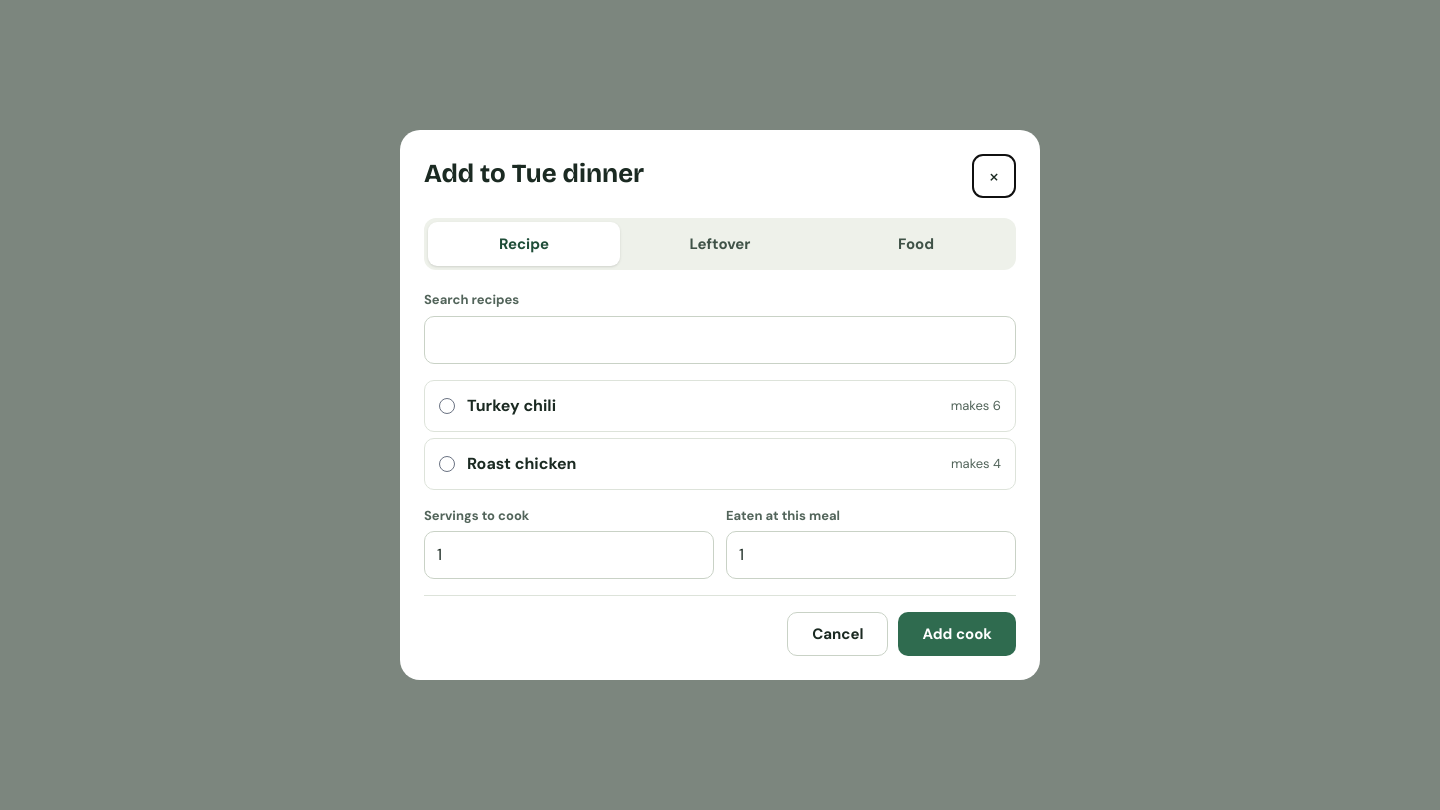
Test case: AddDialog › offers to create a food when the search finds none
The image size is (1440, 810).
Step 1. Click the tab "Food" → (916, 244), box [820,222,1012,266]
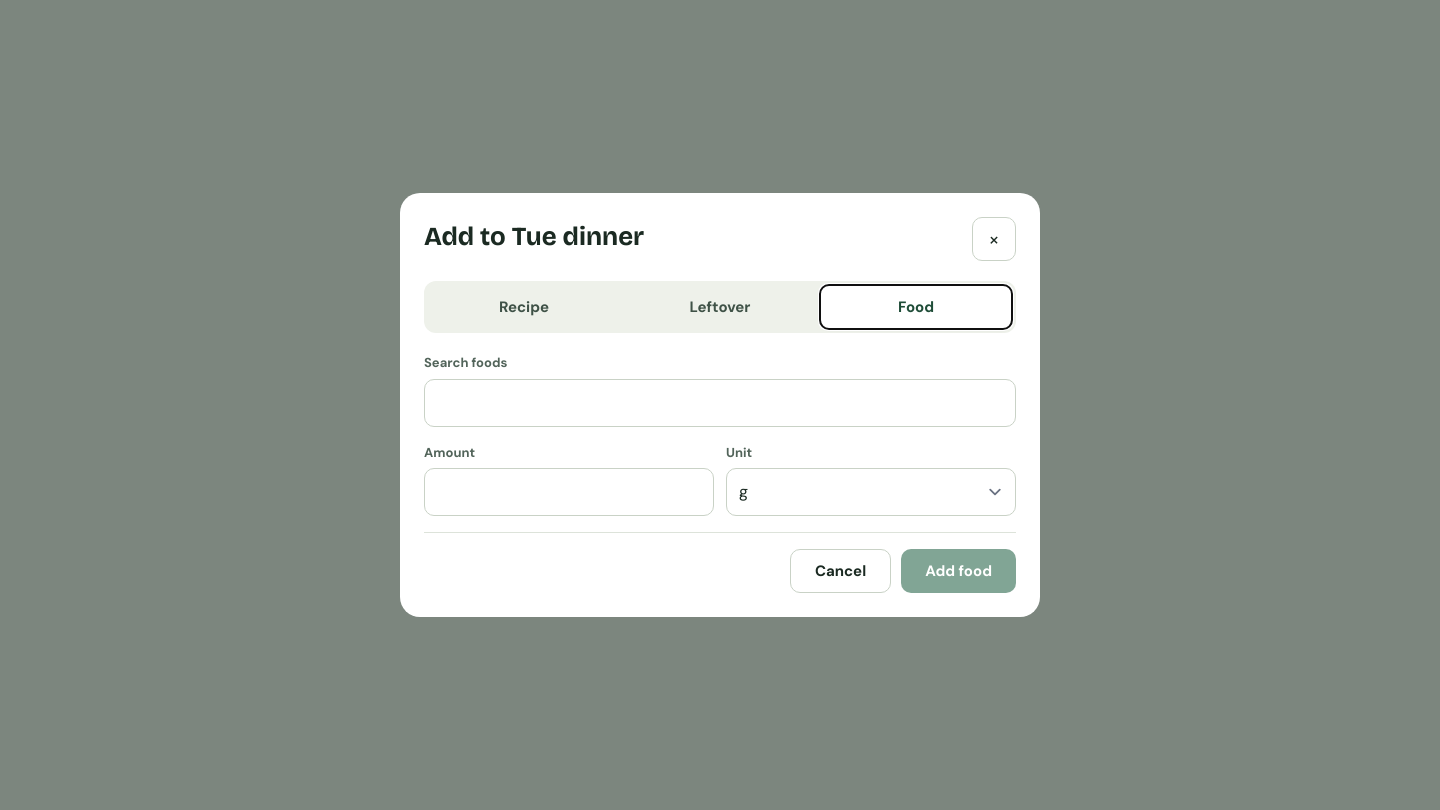
Step 2. Type "greek yogurt" into the search field labelled "Search foods" → (720, 402), box [424,378,1016,426]
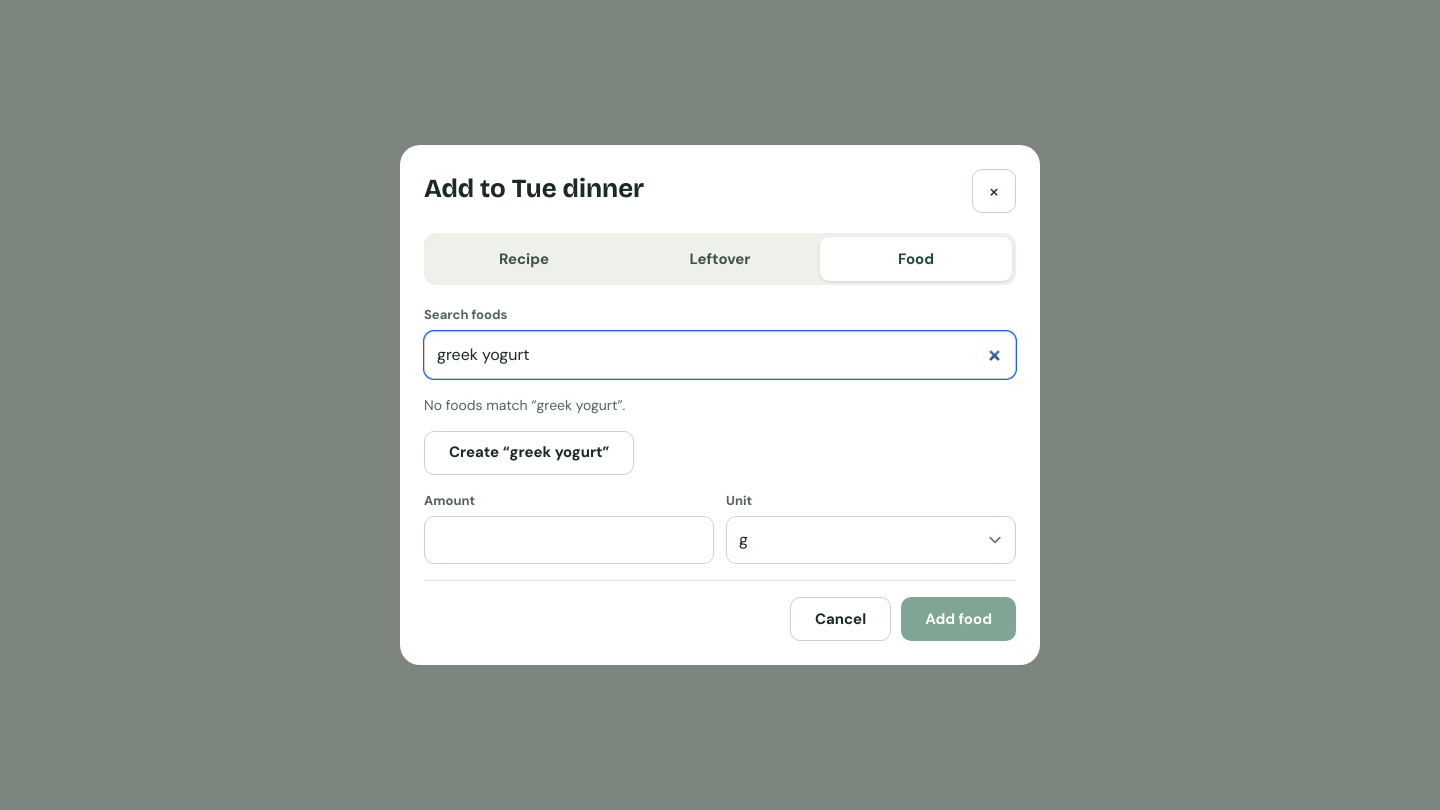
Step 3. Click the button "Create “greek yogurt”" → (529, 452), box [424,430,634,474]
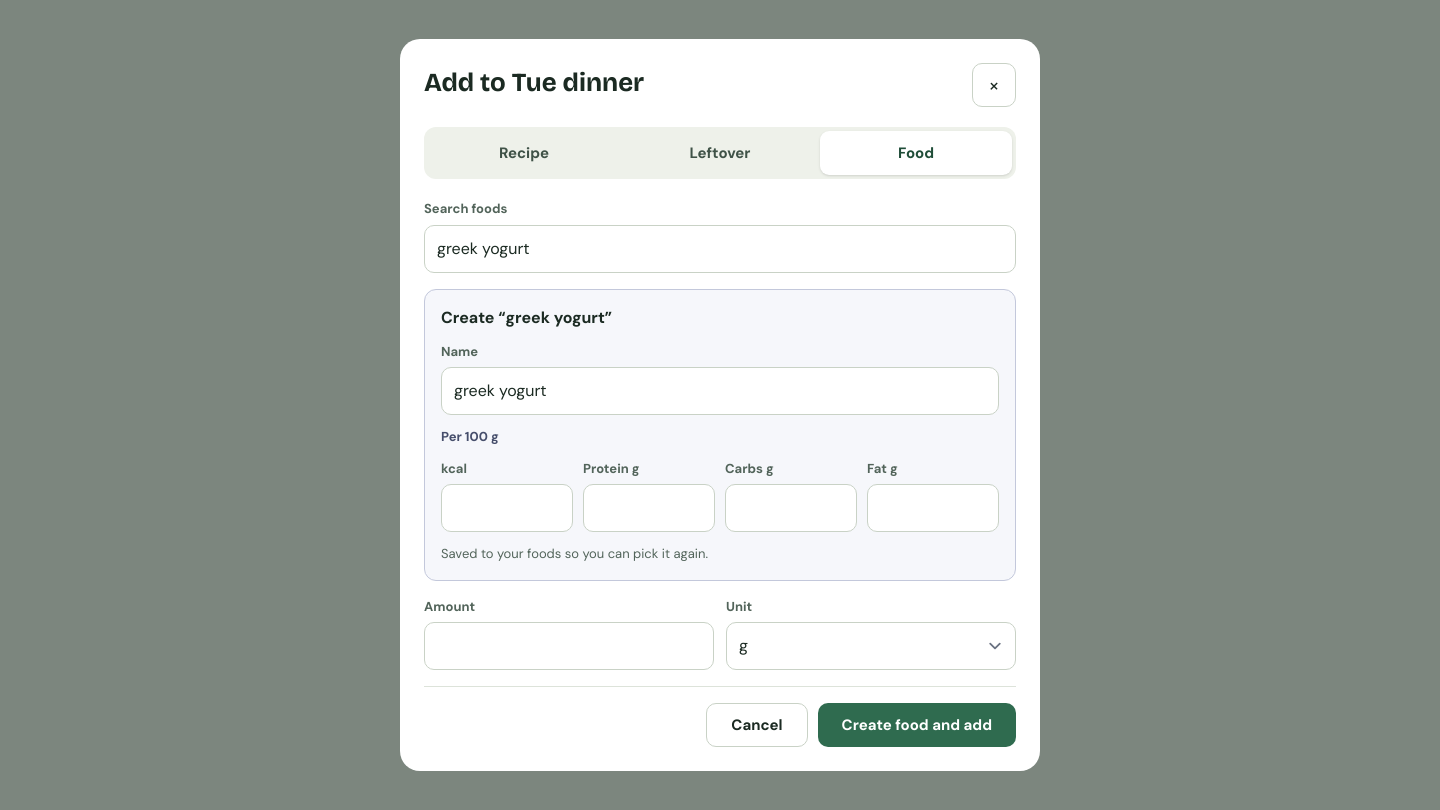
Check: the field labelled "Name" holds "greek yogurt", box [441,367,999,415]
Check: the field labelled "kcal" is shown, box [441,484,573,532]
Check: the button "Create food and add" is enabled, box [818,703,1016,747]
